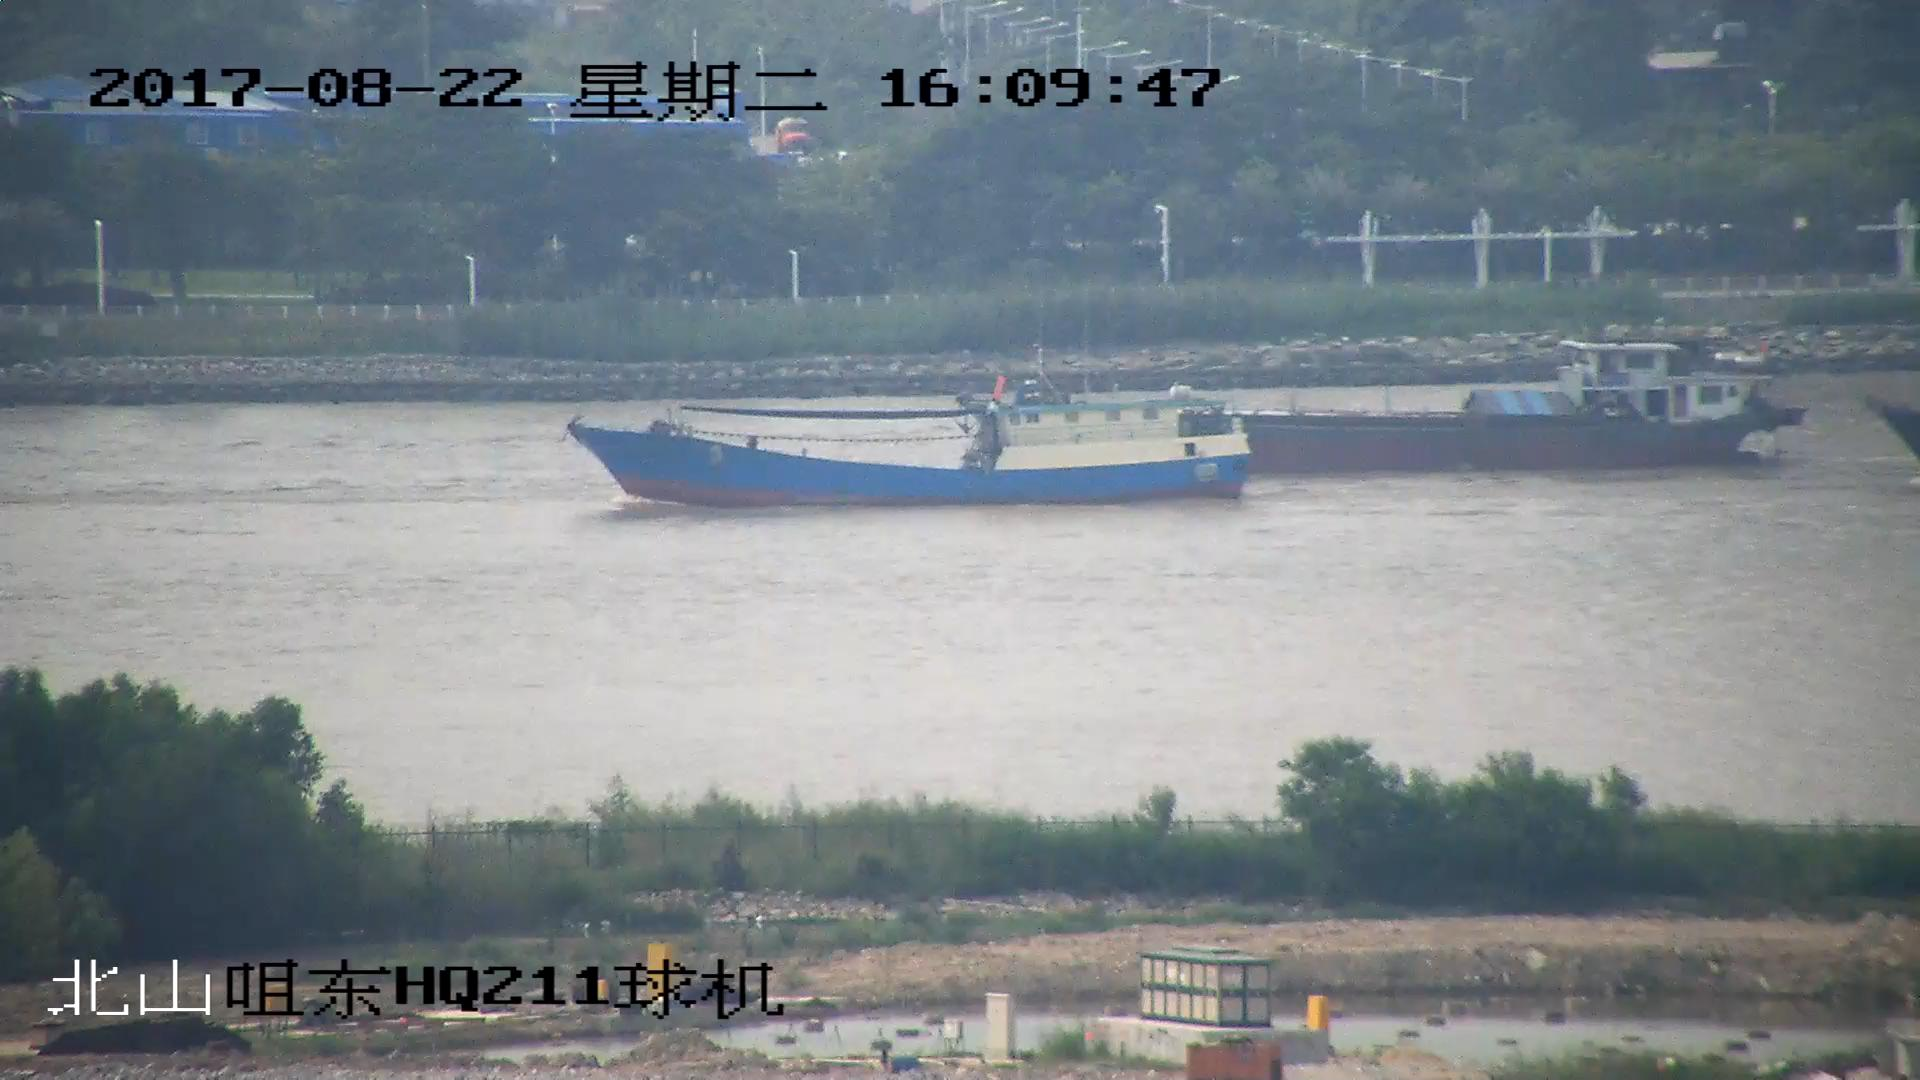bulk cargo carrier: (957, 331, 1802, 478)
fishing boat: (567, 374, 1248, 512)
